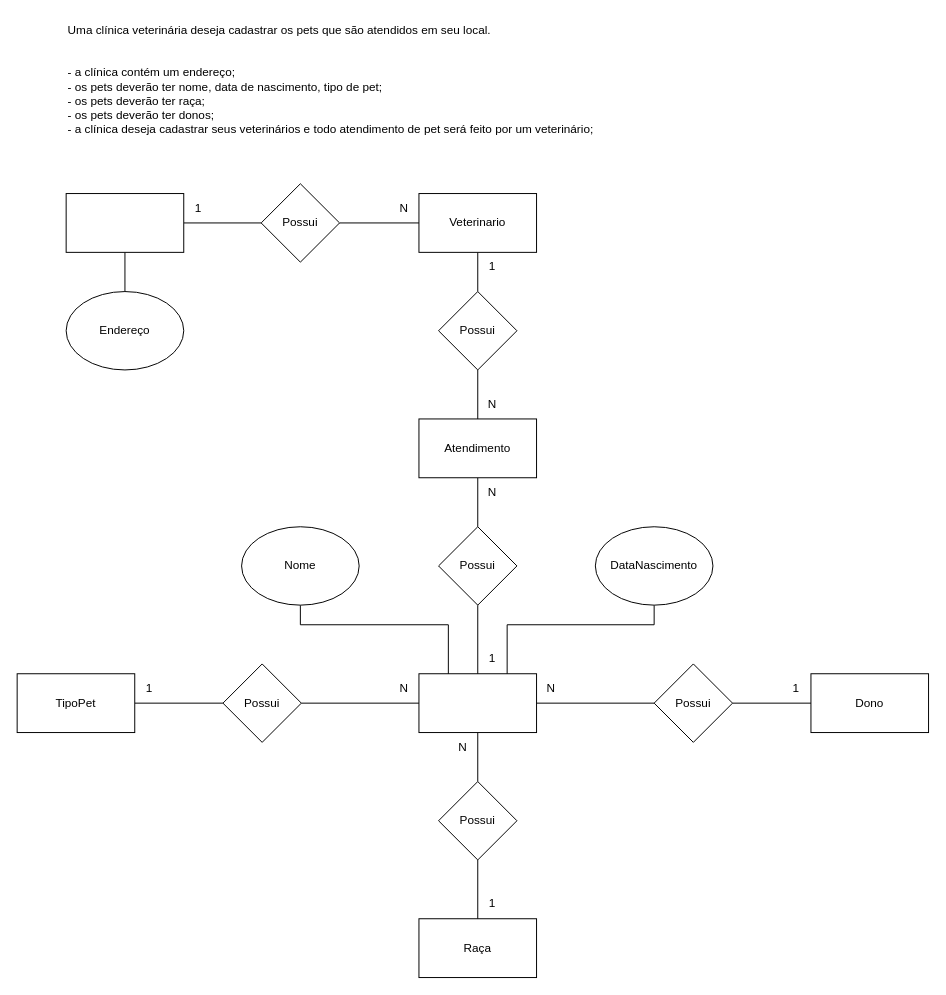
Some shapes in this 946 by 995 pixel diagram are drawn without their labels. Here are the shapes that lost their labels. From the top down, the box of each, then its label:
(65, 193, 184, 252): Clinica
(418, 673, 537, 733): Pet
